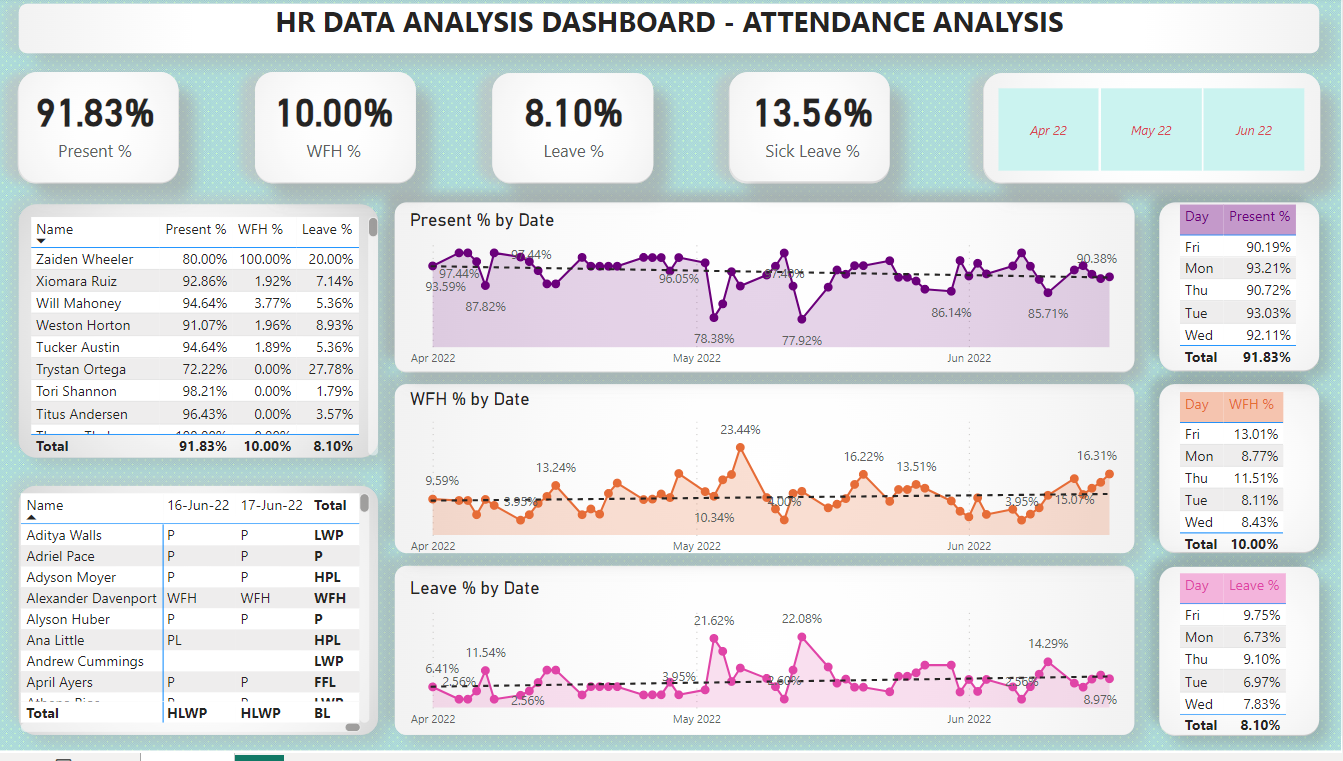

Layout of this report page (visuals, bound fields, positions):
{"tool":"powerbi","page":{"name":"Page 1","canvas":[1280,720],"ordinal":0},"visuals":[{"type":"card","fields":{"Values":["Key Measures.Present %"]},"box":[25.7,61.9,134.4,111.1],"z":0},{"type":"card","fields":{"Values":["Key Measures.WFH %"]},"box":[253.5,62,134.4,111.1],"z":1000},{"type":"card","fields":{"Values":["Key Measures.Sick Leave %"]},"box":[709.3,62.4,134.4,111.1],"z":2000},{"type":"slicer","fields":{"Values":["Final Data.mmmyy"]},"box":[927.1,79.7,341.6,92.8],"z":3000},{"type":"card","fields":{"Values":["Key Measures.Leave %"]},"box":[481.4,62.3,134.4,111.1],"z":4000},{"type":"tableEx","fields":{"Values":["Final Data.Name","Key Measures.Present %","Key Measures.WFH %","Key Measures.Leave %"]},"box":[26.2,204.7,341.6,236.8],"z":5000},{"type":"pivotTable","fields":{"Rows":["Final Data.Name"],"Values":["Min(Final Data.Value)"],"Columns":["Final Data.Date"]},"box":[17.9,467.7,341.6,236.8],"z":6000},{"type":"areaChart","fields":{"Category":["Final Data.Date"],"Y":["Key Measures.Present %"]},"box":[388,202.3,697.4,158.3],"z":7000},{"type":"tableEx","fields":{"Values":["Final Data.Day","Key Measures.Present %"]},"box":[1119.9,192.8,128.5,167.8],"z":10000},{"type":"tableEx","fields":{"Values":["Final Data.Day","Key Measures.WFH %"]},"box":[1119.9,371.3,128.5,167.8],"z":11000},{"type":"tableEx","fields":{"Values":["Final Data.Day","Key Measures.Leave %"]},"box":[1119.9,543.9,128.5,167.8],"z":12000},{"type":"areaChart","fields":{"Category":["Final Data.Date"],"Y":["Key Measures.WFH %"]},"box":[388,372.5,697.4,167.8],"z":12001},{"type":"areaChart","fields":{"Category":["Final Data.Date"],"Y":["Key Measures.Leave %"]},"box":[388,552.2,697.4,152.3],"z":12002},{"type":"textbox","box":[194,0,892.6,46.4],"z":12003}]}

Visuals, with their boxes in screenshot pixels (x1, y1, x2, y2), scaled from the page's 1280x720 canvas onto the 1343x761 screenshot:
card - Key Measures.Present %: detection(27, 65, 168, 183)
card - Key Measures.WFH %: detection(266, 66, 407, 183)
card - Key Measures.Sick Leave %: detection(744, 66, 885, 183)
slicer - Final Data.mmmyy: detection(973, 84, 1331, 182)
card - Key Measures.Leave %: detection(505, 66, 646, 183)
tableEx - Final Data.Name x Key Measures.Present %: detection(27, 216, 386, 467)
pivotTable - Final Data.Name x Min(Final Data.Value): detection(19, 494, 377, 745)
areaChart - Final Data.Date x Key Measures.Present %: detection(407, 214, 1139, 381)
tableEx - Final Data.Day x Key Measures.Present %: detection(1175, 204, 1310, 381)
tableEx - Final Data.Day x Key Measures.WFH %: detection(1175, 392, 1310, 570)
tableEx - Final Data.Day x Key Measures.Leave %: detection(1175, 575, 1310, 752)
areaChart - Final Data.Date x Key Measures.WFH %: detection(407, 394, 1139, 571)
areaChart - Final Data.Date x Key Measures.Leave %: detection(407, 584, 1139, 745)
textbox: detection(204, 0, 1140, 49)
